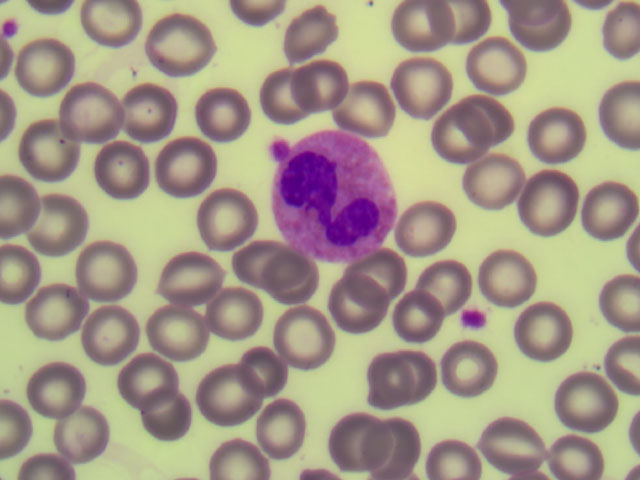Platelets: (458, 306, 494, 339), (1, 14, 20, 37)
RBC: (209, 421, 264, 480), (545, 421, 600, 480), (481, 421, 536, 480), (430, 421, 485, 480), (15, 37, 70, 95), (63, 83, 118, 141), (85, 1, 140, 59), (150, 14, 205, 72), (126, 79, 181, 137), (24, 120, 79, 178), (25, 186, 80, 244), (28, 281, 83, 339), (70, 239, 125, 297), (87, 306, 142, 364), (122, 350, 177, 408), (141, 386, 196, 444), (57, 409, 112, 467), (33, 359, 88, 417), (161, 304, 216, 362), (164, 249, 219, 307), (209, 284, 264, 342), (233, 336, 288, 394), (197, 364, 252, 422), (257, 399, 312, 457), (325, 411, 380, 469), (366, 412, 421, 470), (354, 349, 409, 407), (386, 347, 441, 405), (388, 287, 443, 345), (407, 254, 462, 312), (360, 242, 415, 300), (334, 270, 389, 328), (276, 312, 331, 370), (271, 258, 326, 316), (244, 233, 299, 291), (204, 191, 259, 249), (161, 135, 216, 193), (99, 142, 154, 200), (189, 80, 244, 138), (258, 67, 313, 125), (306, 52, 361, 110), (288, 5, 343, 63), (346, 76, 401, 134), (400, 54, 455, 112), (479, 33, 534, 91), (469, 85, 524, 143), (429, 107, 484, 165), (468, 151, 523, 209), (407, 194, 462, 252), (483, 246, 538, 304), (520, 305, 575, 363), (524, 178, 579, 236), (524, 109, 579, 167), (579, 172, 634, 230), (559, 365, 614, 423), (390, 1, 445, 58), (447, 1, 502, 58), (515, 1, 571, 45)
WBC: (275, 127, 395, 261)
